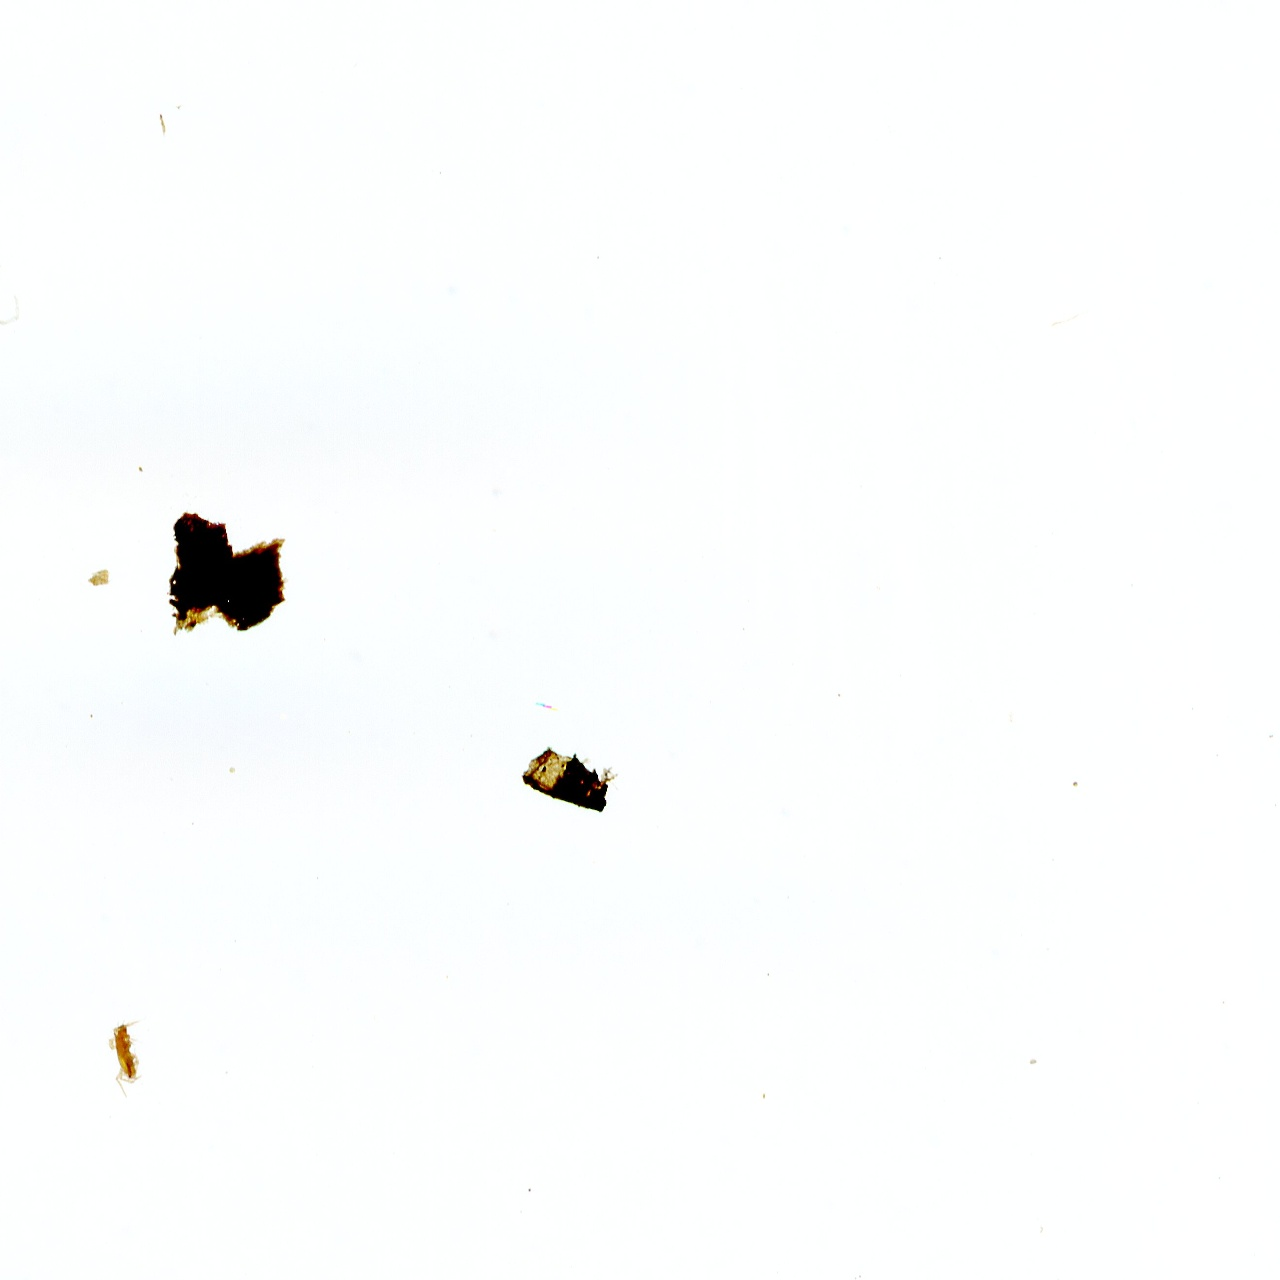arthropod: (105, 1014, 147, 1100), (0, 235, 28, 349)
